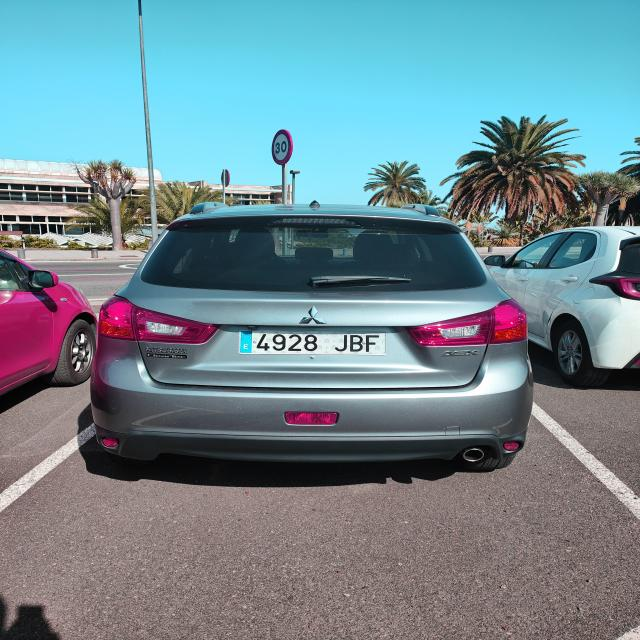License-Plate: (239, 330, 388, 355)
